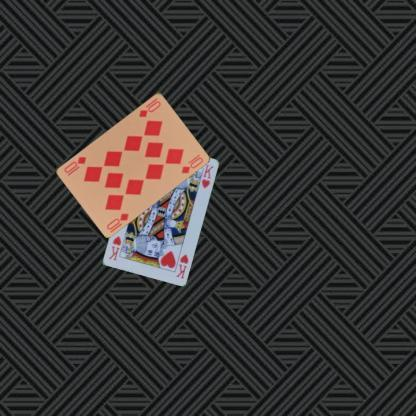10d: (136, 95, 162, 118), (103, 210, 130, 231)
Kh: (173, 251, 190, 280)
